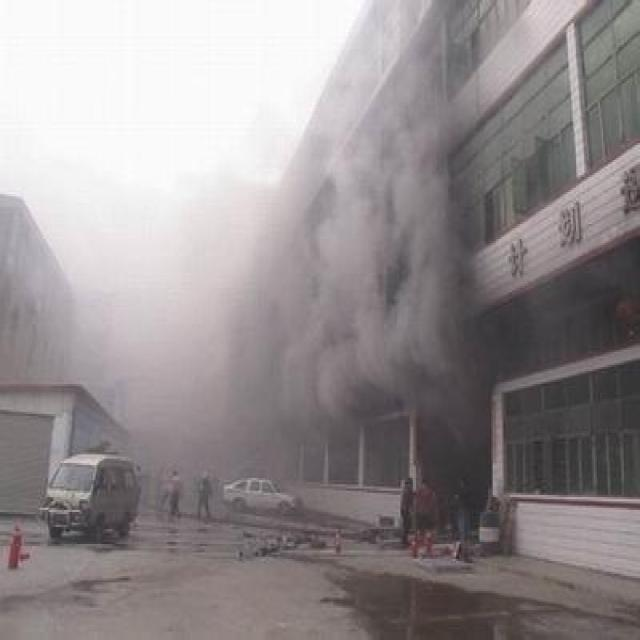Smoke: (260, 2, 470, 444)
